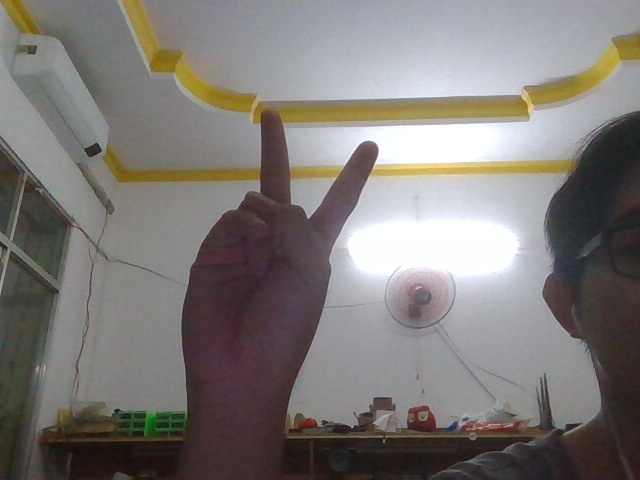hello: (137, 88, 404, 418)
